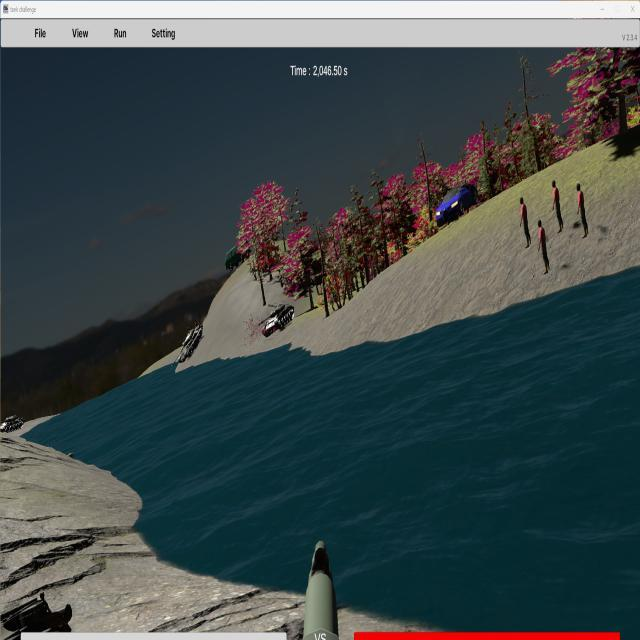Tank: (171, 325, 204, 369), (257, 302, 295, 338)
car: (436, 183, 477, 228), (225, 239, 250, 272)
